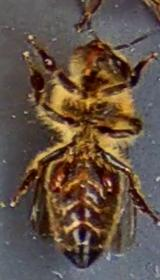varroa_mite: (42, 152, 78, 198), (94, 168, 123, 200)
